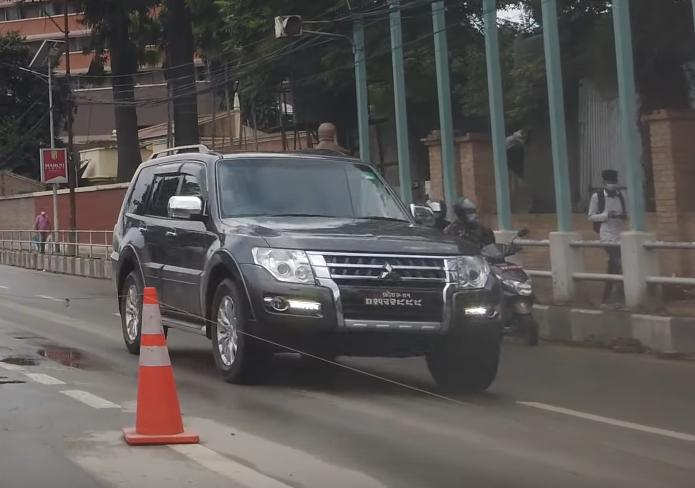SUV: (98, 134, 504, 390)
